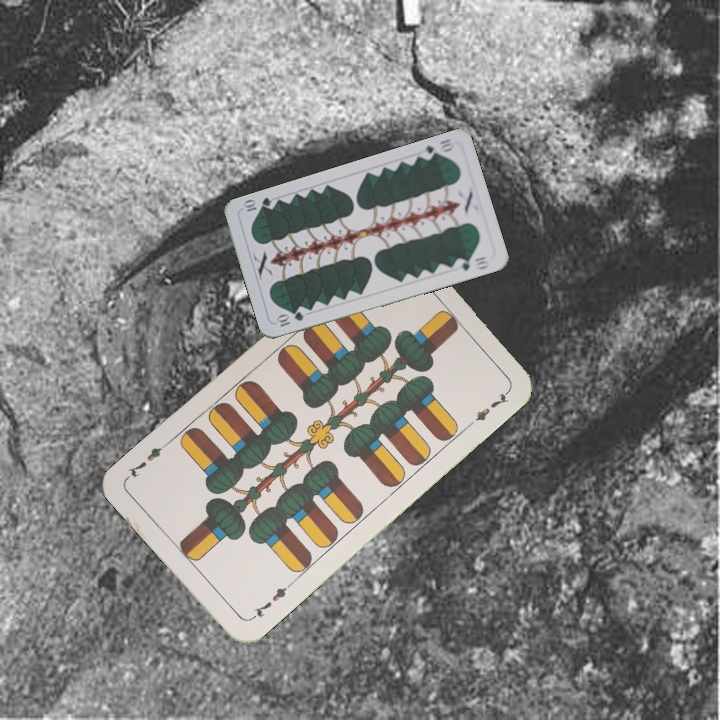E7: (246, 579, 295, 623)
G10: (416, 134, 456, 162), (272, 308, 306, 329)
